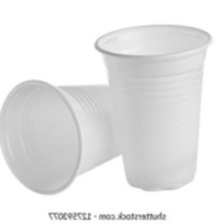glass: (89, 20, 215, 197), (0, 70, 150, 195)
